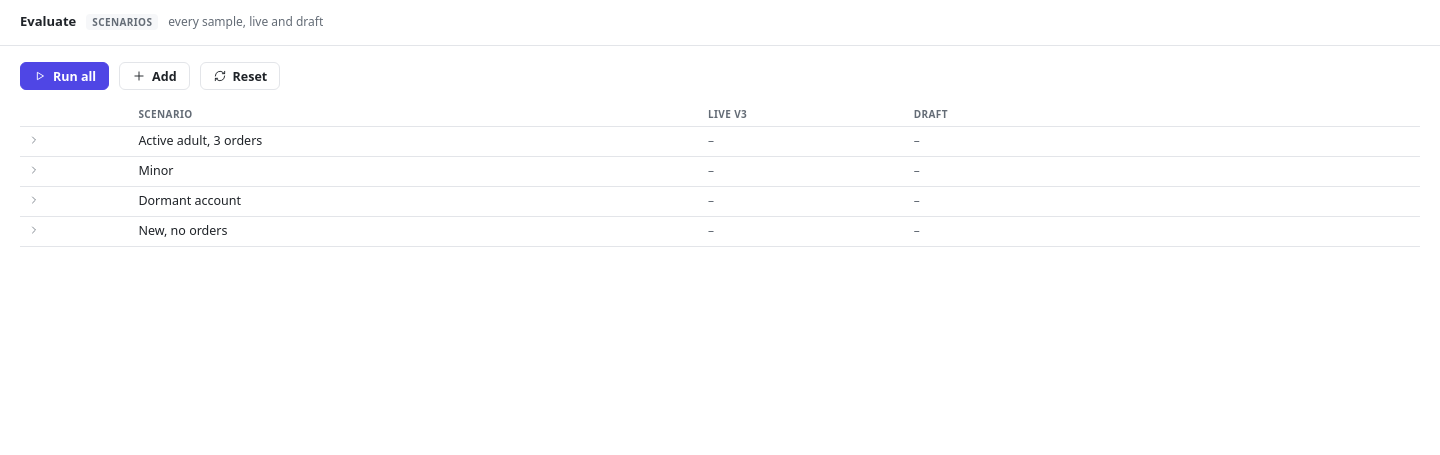
Test case: ScenarioPane › adds a scenario, opened for editing
Click the button "Add" at (154, 76), box [119,62,190,90]
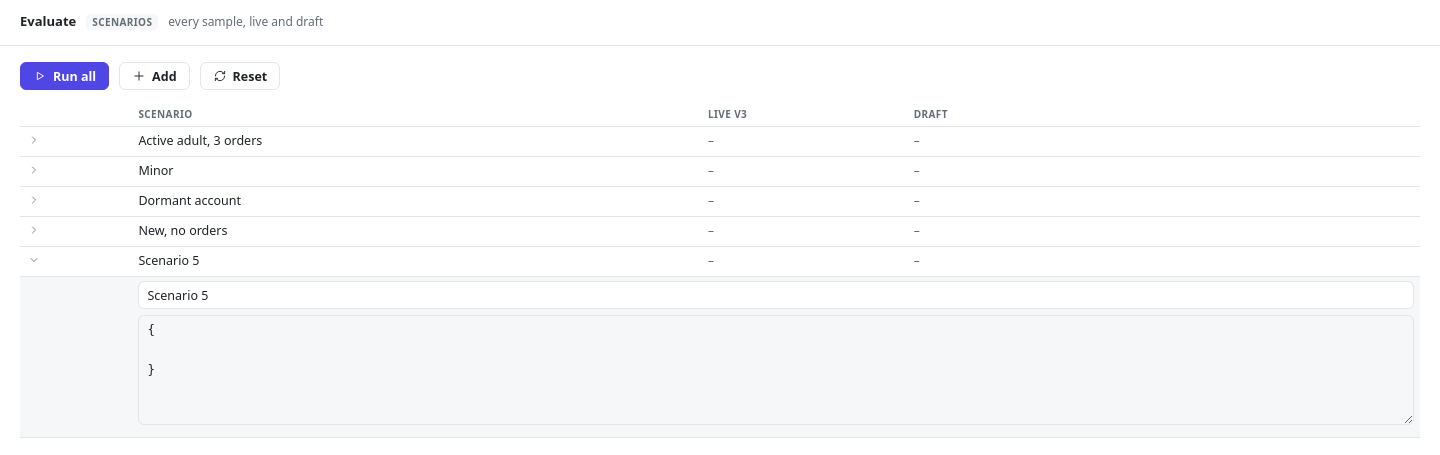
expect the field named "scenario name" is shown: met, box [138,281,1414,309]
